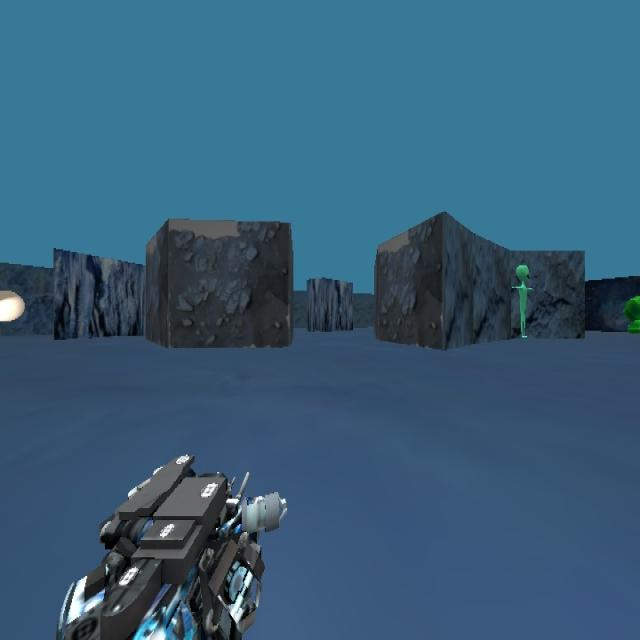Alien: (511, 263, 534, 337)
Circle: (0, 289, 25, 323)
Diamon: (617, 283, 640, 357)
